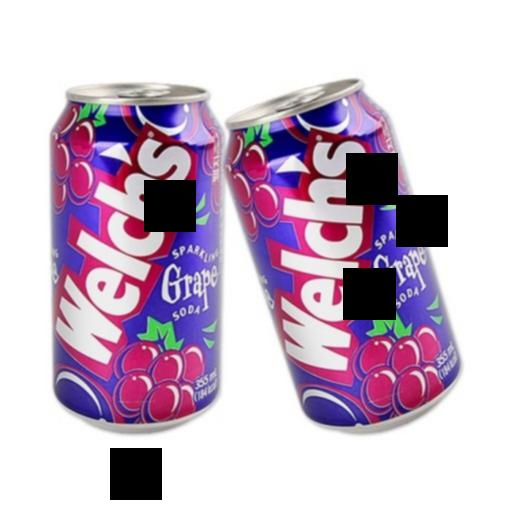welchs_grape: (221, 51, 459, 443), (63, 81, 227, 421)
